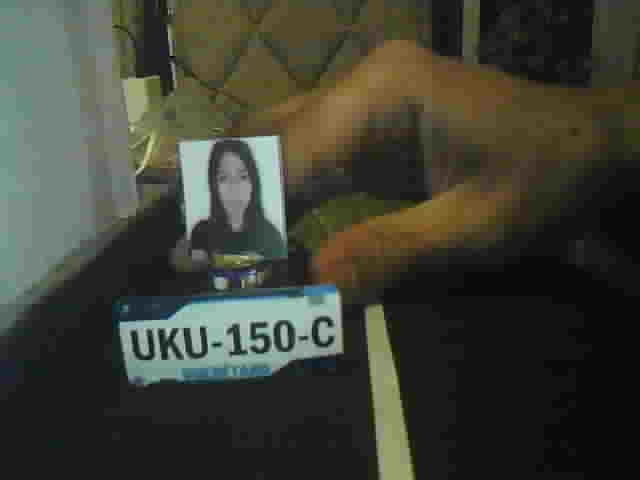PLACA: (112, 282, 345, 390)
ROSTRO: (186, 140, 288, 258)
